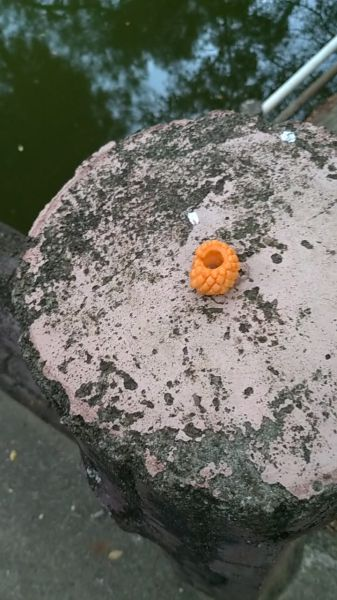eggs: (182, 234, 243, 302)
